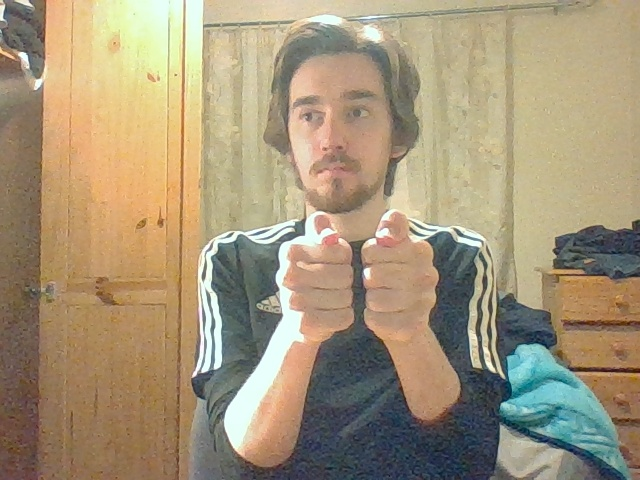brother: (276, 211, 439, 334)
